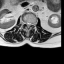CCS_normal: (27, 20, 29, 30)
LFS_normal: (31, 20, 33, 27)
LLS_normal: (29, 20, 31, 27)
RFS_normal: (23, 19, 25, 26)
RLS_normal: (25, 20, 27, 27)
